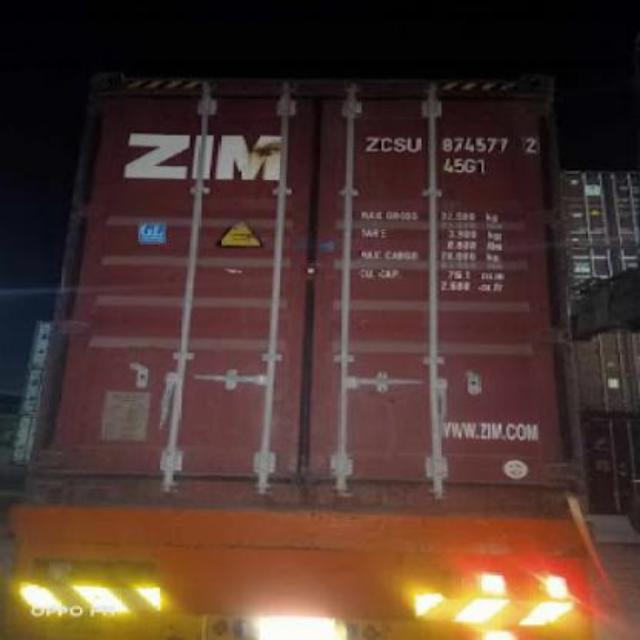2: (522, 131, 540, 155)
4: (462, 130, 476, 154)
5: (474, 131, 486, 155)
7: (494, 128, 512, 158), (484, 128, 496, 156), (450, 132, 462, 156)
8: (438, 129, 452, 153)
C: (376, 130, 392, 158)
S: (390, 127, 406, 159)
U: (404, 128, 426, 162)
Z: (358, 128, 379, 156)
